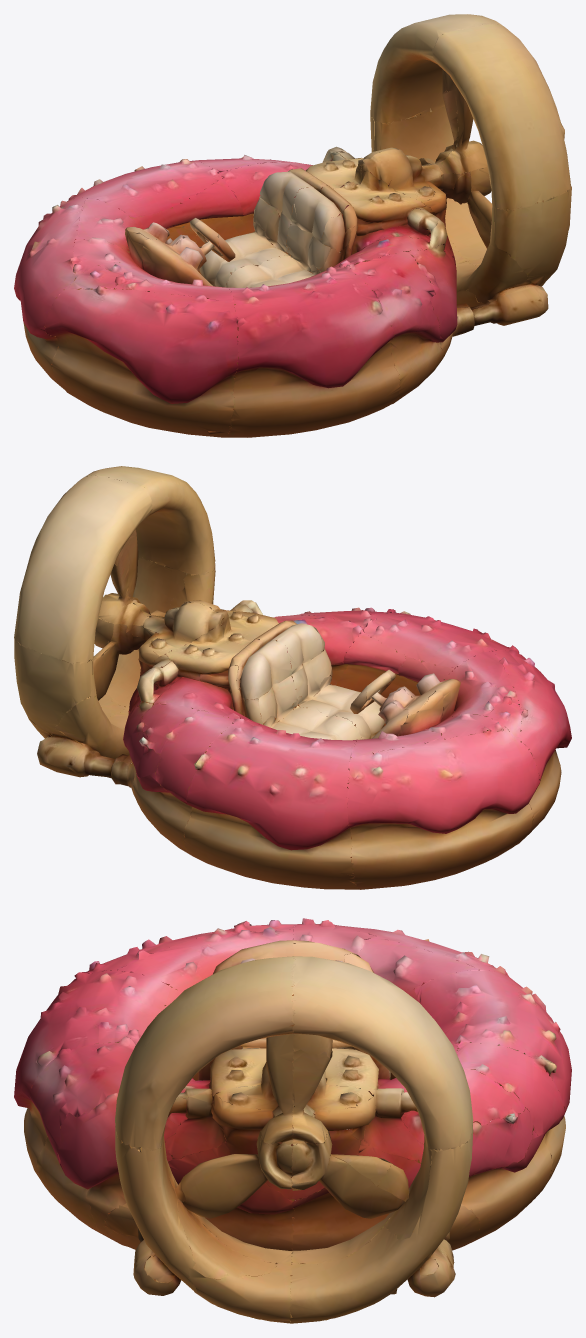
File: ride-bumper-cars-donut.glb
3 renders of one model, top to bottom at view 1: azimuth 30°, elevation 25°; view 2: azimuth 150°, elevation 25°; view 3: azimuth 270°, elevation 25°, orthographic. The views are drawn at different scales.
Visible parts, largest first — view 1: tripo_node_fb64d021-b876-482a-ba4a-6b6e0bdad114; view 2: tripo_node_fb64d021-b876-482a-ba4a-6b6e0bdad114; view 3: tripo_node_fb64d021-b876-482a-ba4a-6b6e0bdad114.
Part boxes in pixels (x1,y1,x2,y2): tripo_node_fb64d021-b876-482a-ba4a-6b6e0bdad114: [14, 14, 571, 437]; tripo_node_fb64d021-b876-482a-ba4a-6b6e0bdad114: [14, 466, 571, 889]; tripo_node_fb64d021-b876-482a-ba4a-6b6e0bdad114: [14, 918, 571, 1323].
Size of the model in its own units: 1 by 0.581 by 0.8187.
Materials: 1 (1 with a texture image).
